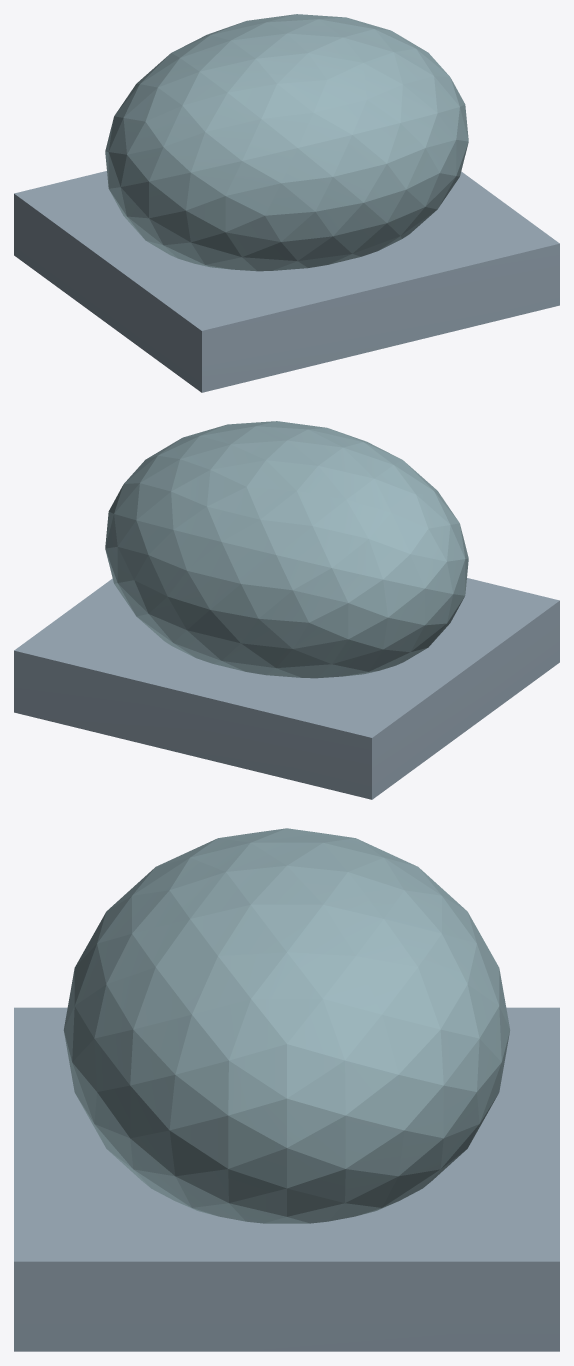
Rendered from stadium-02.glb.
The picture shows the model from 3 angles, top to bottom: view 1: azimuth 30°, elevation 25°; view 2: azimuth 150°, elevation 25°; view 3: azimuth 270°, elevation 25°; orthographic projection. The views are drawn at different scales.
Parts seen in each view (by area): view 1: world; view 2: world; view 3: world.
Boxes of the visible parts, x1=… form: world: x1=14, y1=14, x2=559, y2=392; world: x1=14, y1=421, x2=559, y2=799; world: x1=14, y1=828, x2=559, y2=1351.
Size of the model in its own units: 1.21 by 0.798 by 1.1.
